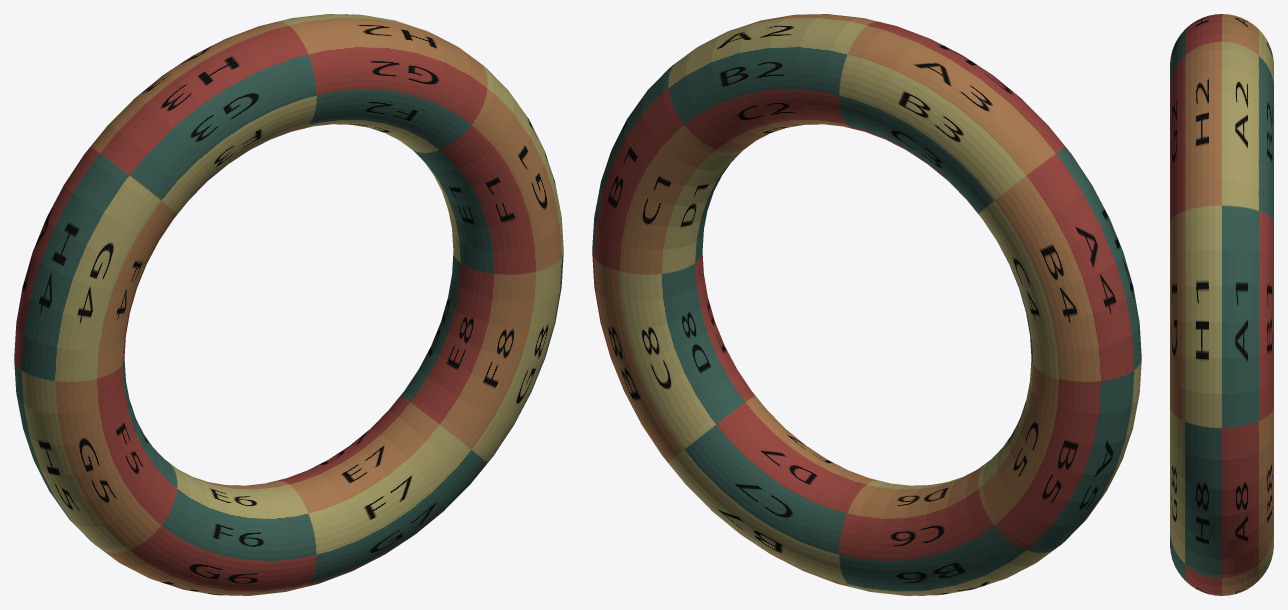
Rendered from texture_torus_R30_r17.glb.
3 views of the same model, side by side, from view 1: azimuth 30°, elevation 25°; view 2: azimuth 150°, elevation 25°; view 3: azimuth 270°, elevation 25° (orthographic). The views are drawn at different scales.
Visible parts, largest first — view 1: world; view 2: world; view 3: world.
Part boxes in pixels (left/top/right/bottom): world: left=14, top=14, right=563, bottom=595; world: left=592, top=14, right=1141, bottom=595; world: left=1170, top=14, right=1273, bottom=595.
Size of the model in its own units: 36.53 by 36.46 by 6.52.
1 material, 1 textured.
